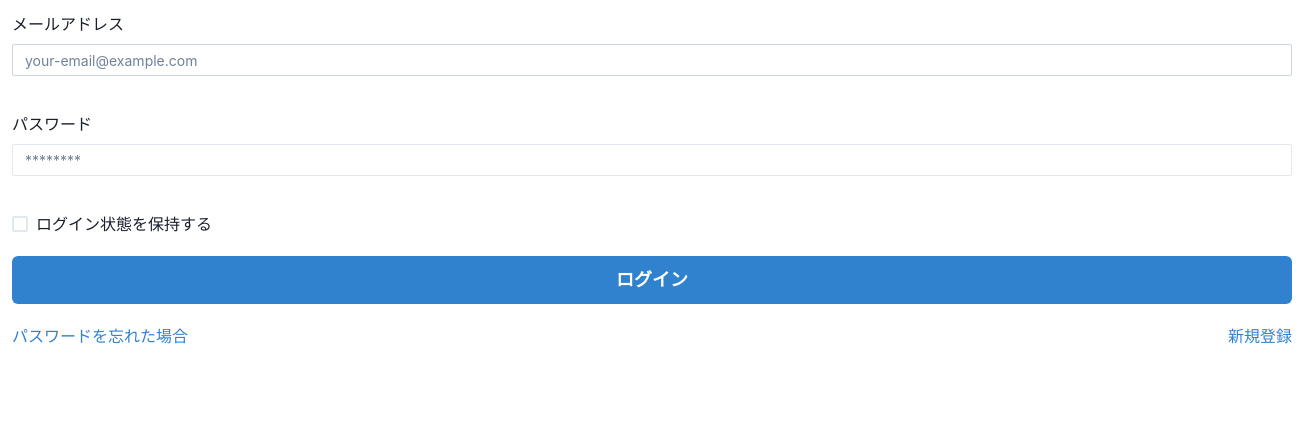
Test: LoginForm › サーバーから予期しないレスポンスが返ってきた場合、エラーメッセージが表示されること
The width and height of the screenshot is (1304, 430).
In the field labelled "メールアドレス": {"x": 652, "y": 60} x1=12 y1=44 x2=1292 y2=76, type "test@example.com"
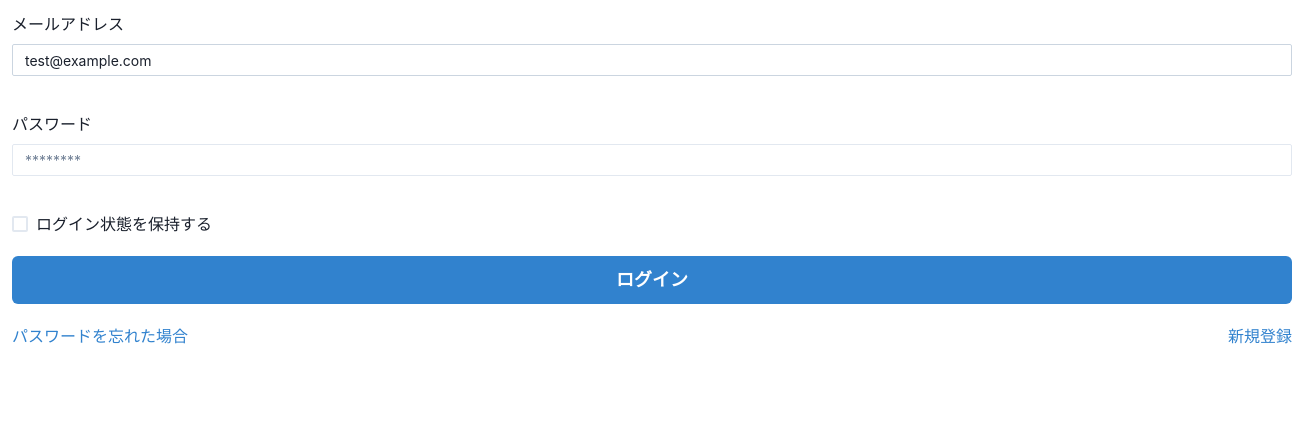
In the password field labelled "パスワード": {"x": 652, "y": 160} x1=12 y1=144 x2=1292 y2=176, type "password123"
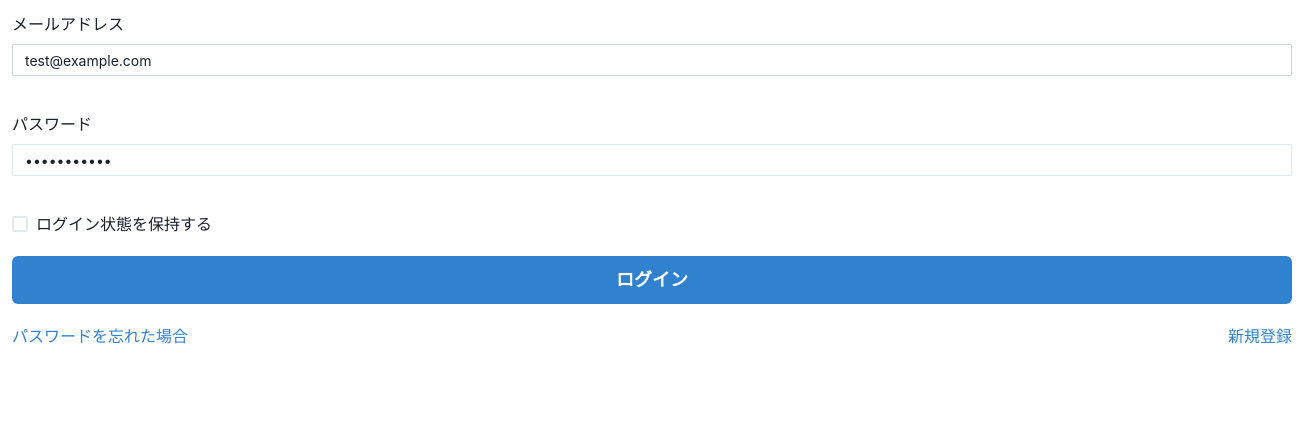
Click the button "ログイン": {"x": 652, "y": 280} x1=12 y1=256 x2=1292 y2=304
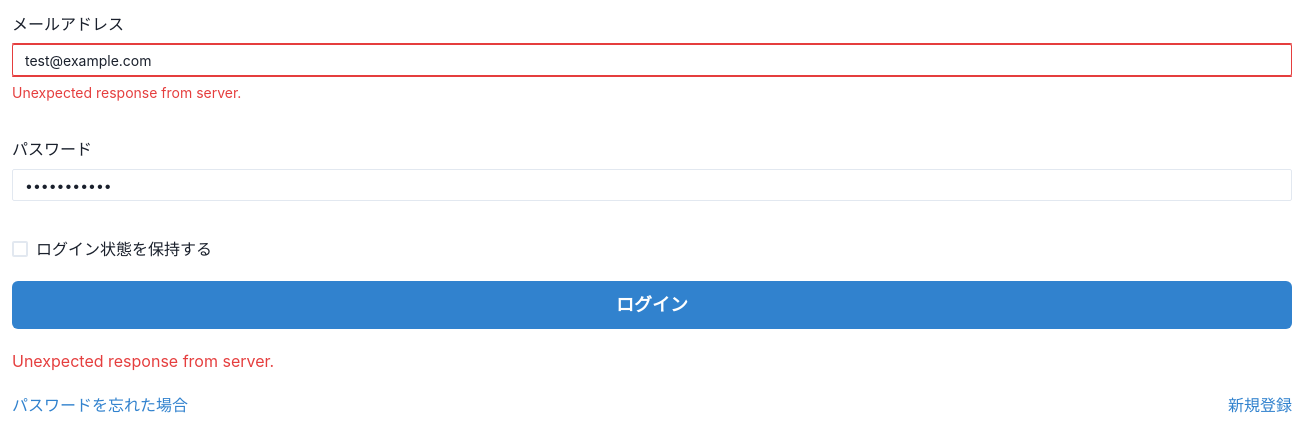
Now the text "Unexpected response from server." below "メールアドレス" is shown, box x1=12 y1=84 x2=241 y2=101
